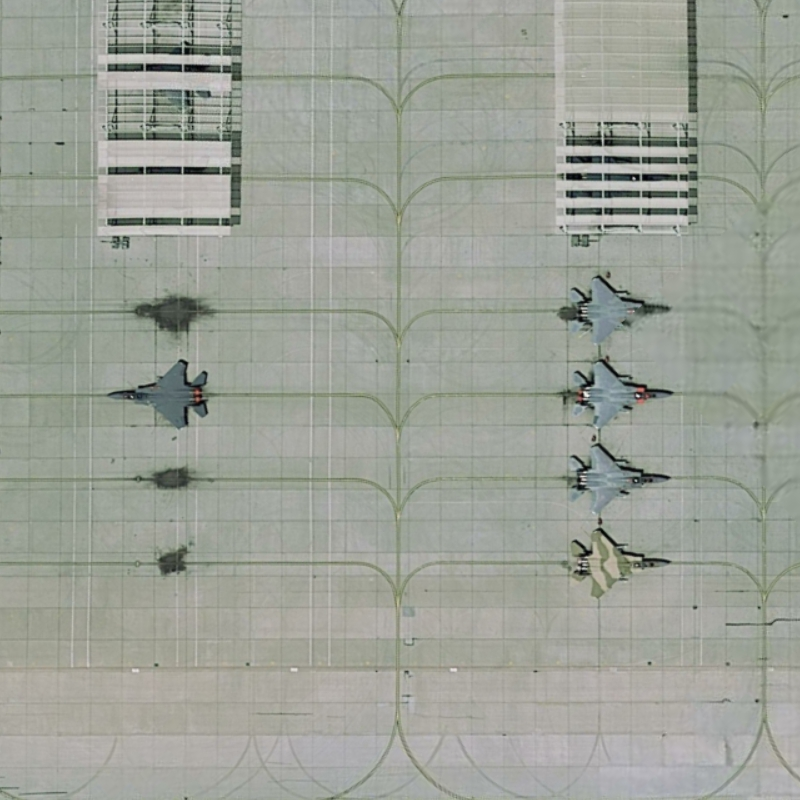A13: (561, 350, 687, 434), (562, 266, 678, 354), (96, 352, 219, 434), (560, 438, 675, 518), (564, 525, 680, 602)
